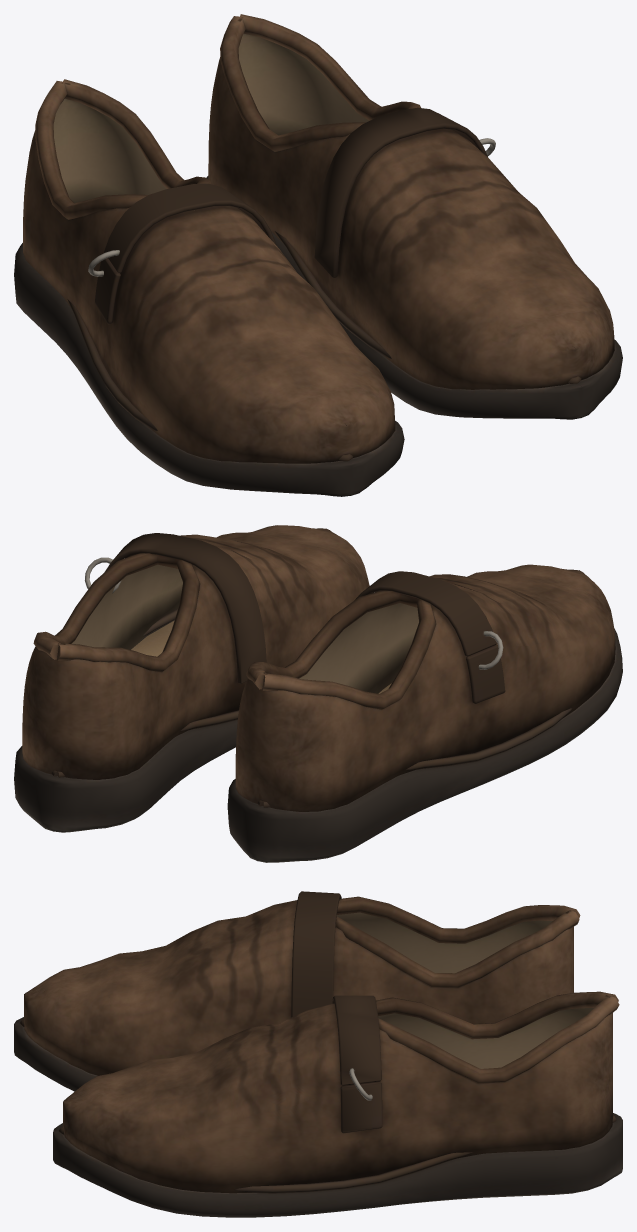
Rendered from PH_ShoeRack__Shoes.fbx.
3 renders of one model, top to bottom at view 1: azimuth 30°, elevation 25°; view 2: azimuth 150°, elevation 25°; view 3: azimuth 270°, elevation 25°, orthographic. The views are drawn at different scales.
Parts seen in each view (by area): view 1: PH_ShoeRack__Shoes; view 2: PH_ShoeRack__Shoes; view 3: PH_ShoeRack__Shoes.
Boxes of the visible parts, box(x1,y1,x2,y2) form: PH_ShoeRack__Shoes: box(14, 14, 622, 496); PH_ShoeRack__Shoes: box(14, 525, 622, 862); PH_ShoeRack__Shoes: box(14, 891, 622, 1217).
Size of the model in its own units: 0.2198 by 0.0922 by 0.2932.
